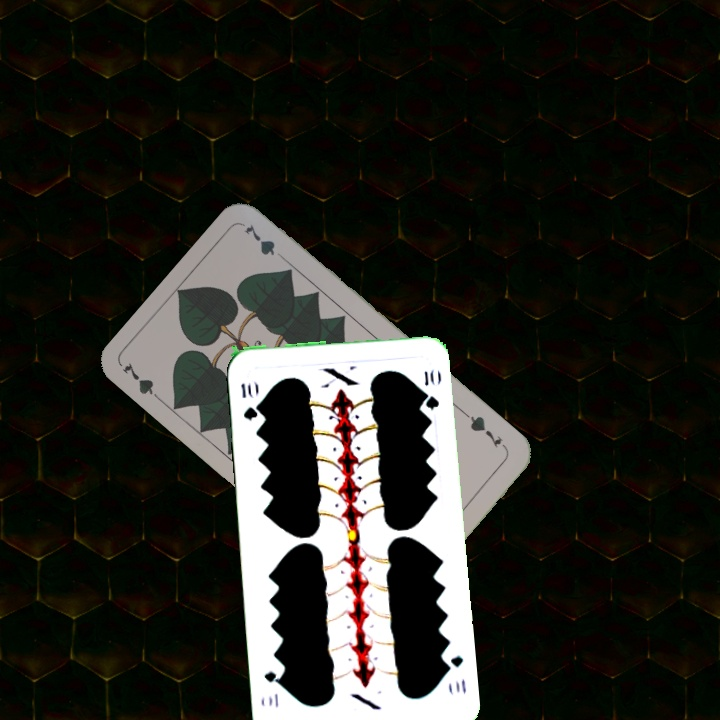G10: (441, 651, 469, 696), (237, 379, 260, 423)
G7: (118, 358, 168, 407), (462, 410, 505, 451)
